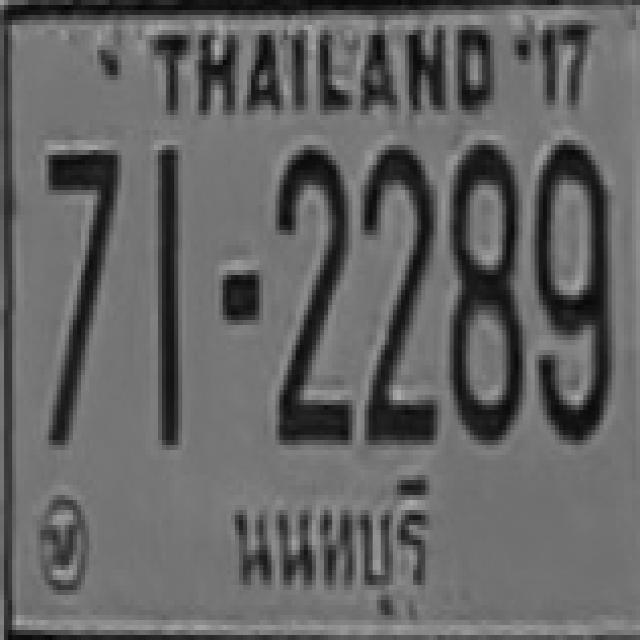0: (530, 138, 608, 332)
1: (154, 145, 178, 380)
2: (274, 145, 350, 390), (276, 210, 348, 440)
7: (44, 148, 118, 332), (44, 148, 118, 312)
8: (446, 140, 518, 440)
9: (532, 172, 610, 438)
Nonthaburi: (220, 461, 444, 618)
